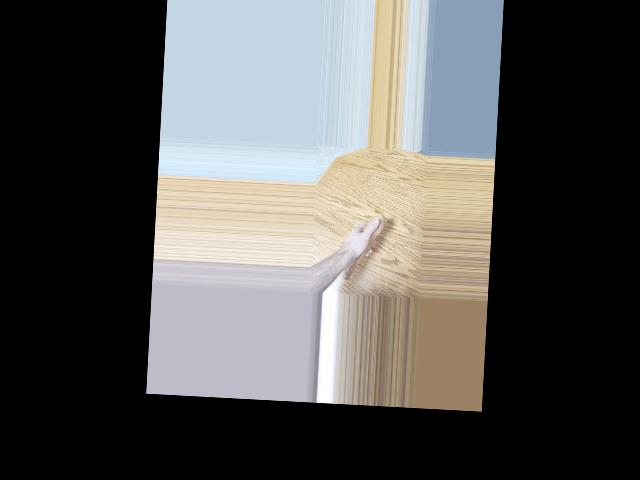sweet_potato: (340, 210, 385, 293)
